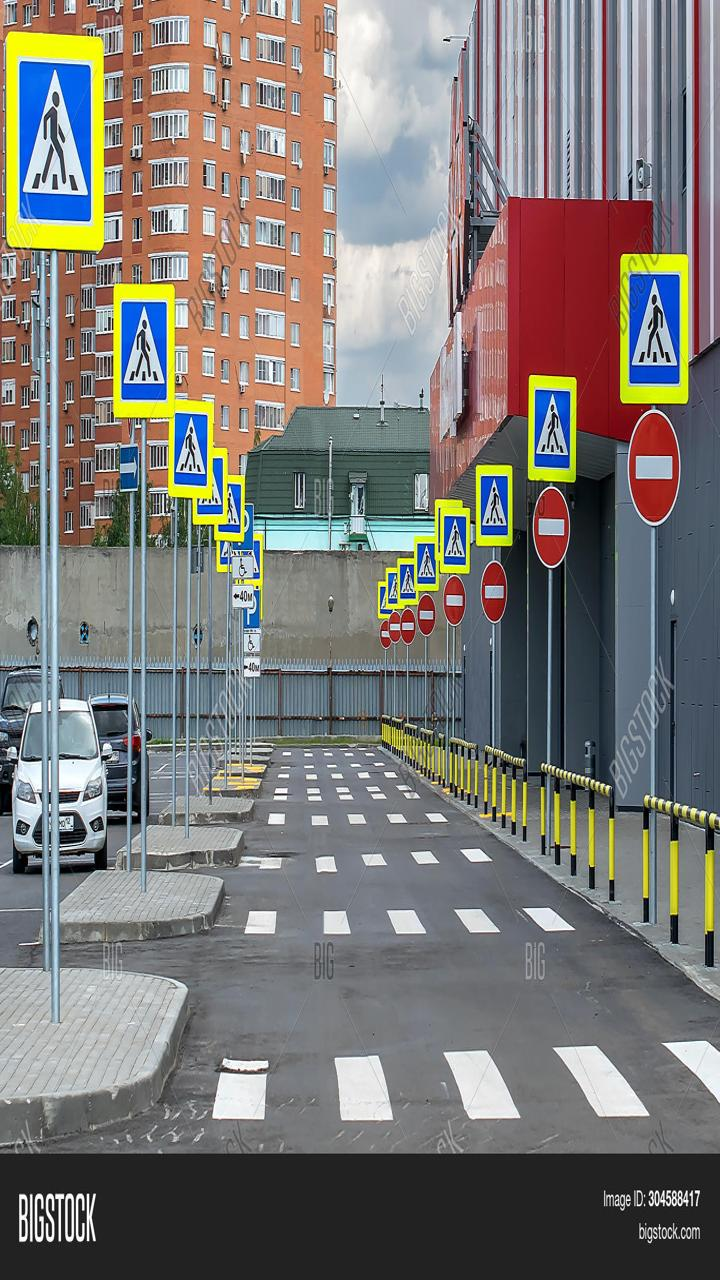Traffic sign: (3, 33, 124, 271), (623, 244, 708, 404), (96, 279, 180, 433), (170, 387, 214, 503), (472, 461, 522, 553), (531, 371, 571, 483), (208, 444, 248, 539), (434, 504, 480, 579), (406, 539, 435, 588), (386, 563, 423, 601)
